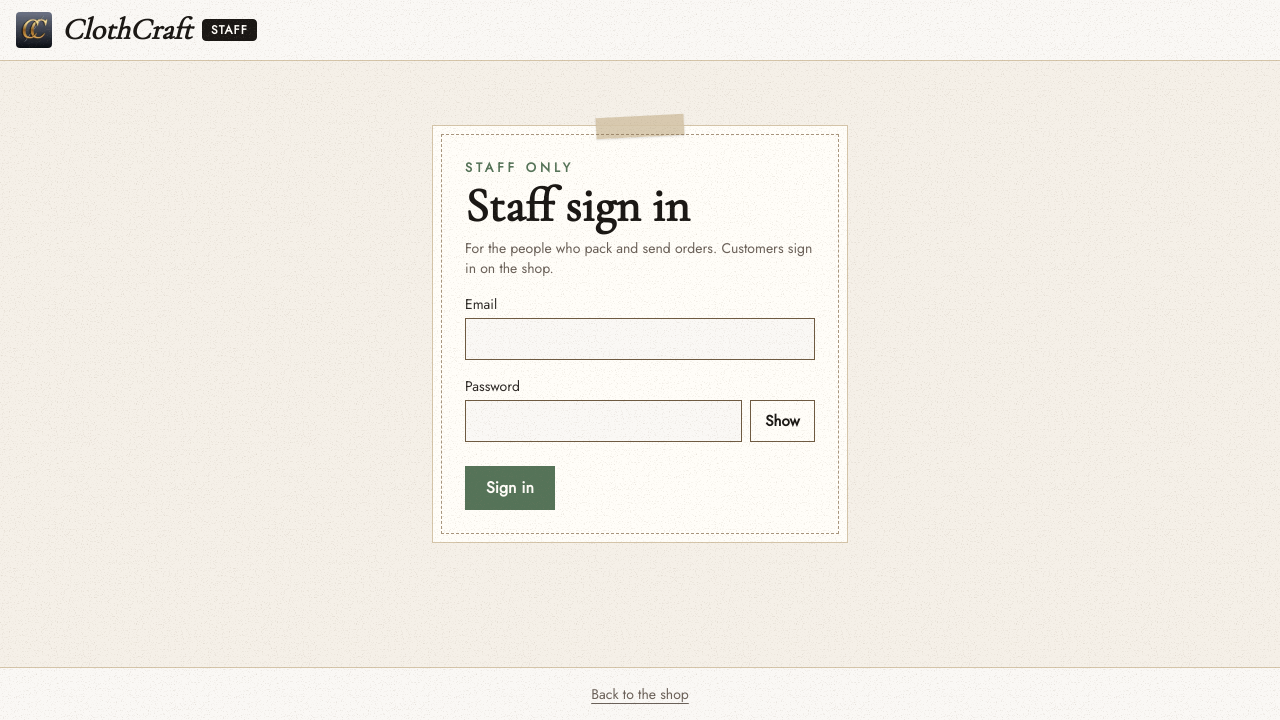
signing in › a wrong password is told in one sentence and the password field is emptied
Type "inventory.demo@clothcraft.test" into the field labelled "Email" at point(640, 338), box [465,318,815,360]
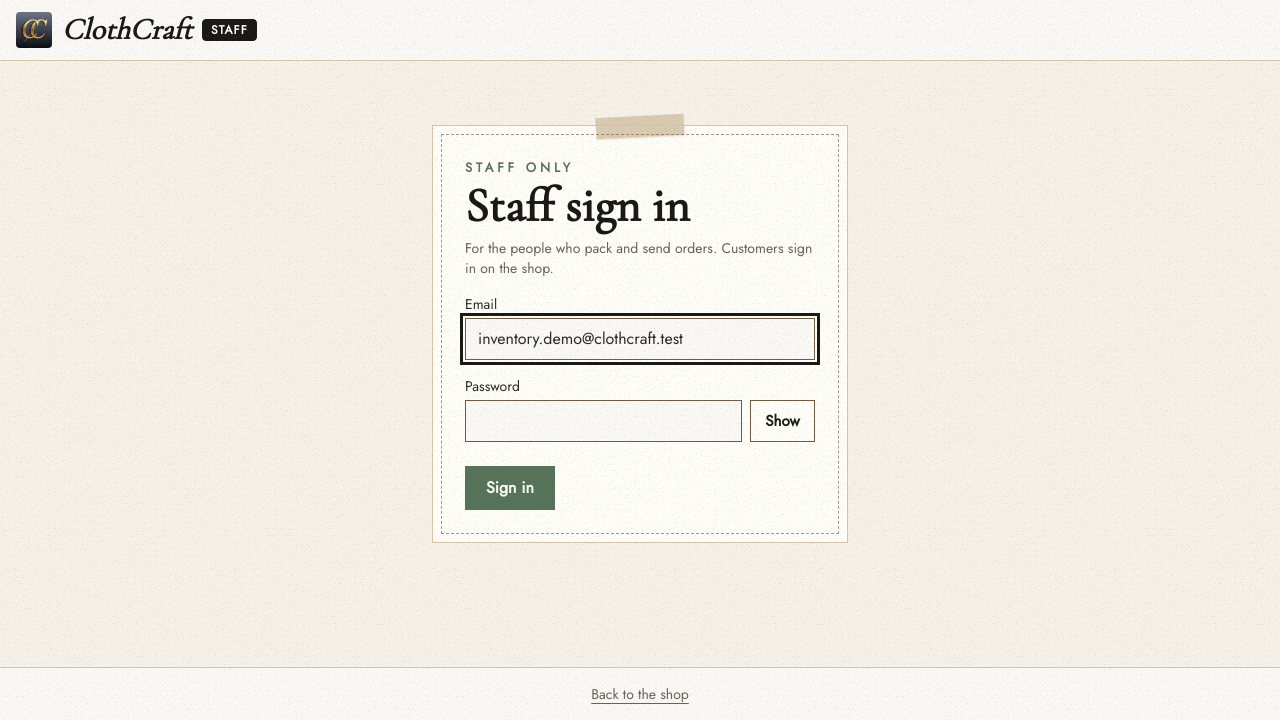
Type "not the password" into the password field labelled "Password" at point(604, 420), box [465,400,742,442]
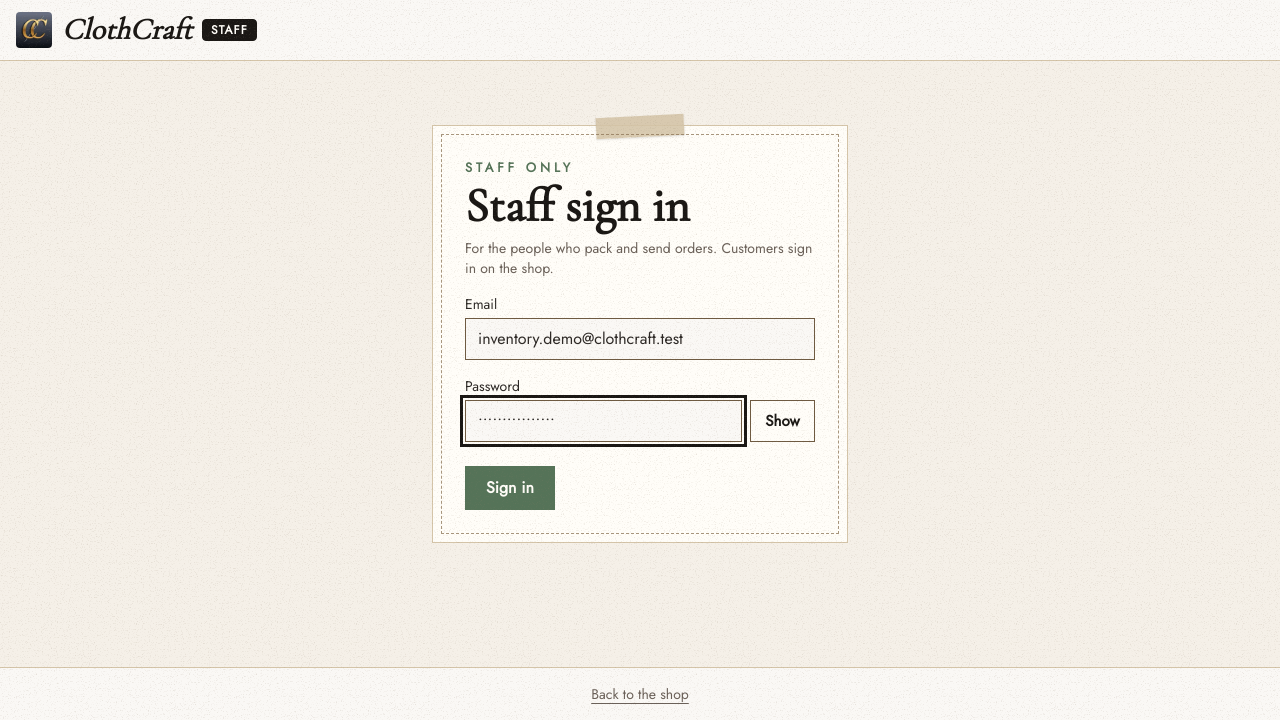
Click the button "Sign in" at point(510, 488), box [465,466,555,510]
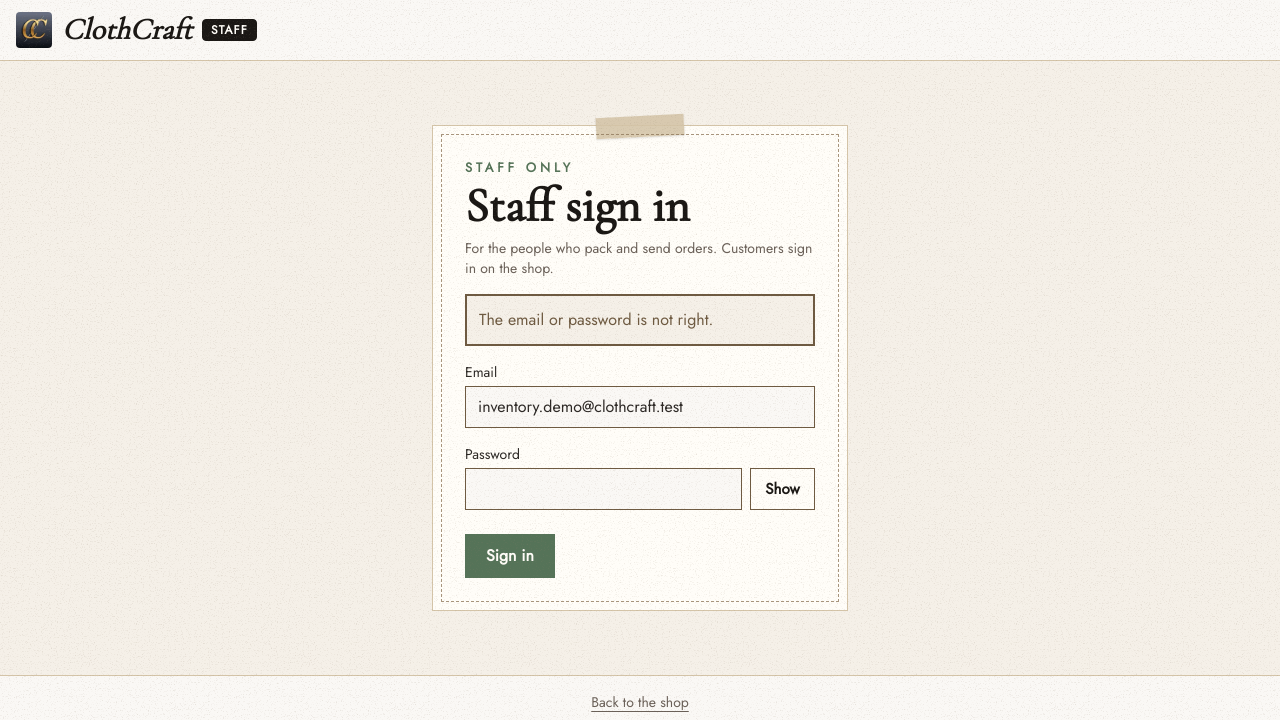
Expected: the message reads "The email or password is not right.", [479,308,713,330]
Expected: the password field labelled "Password" is empty, [465,468,742,510]
